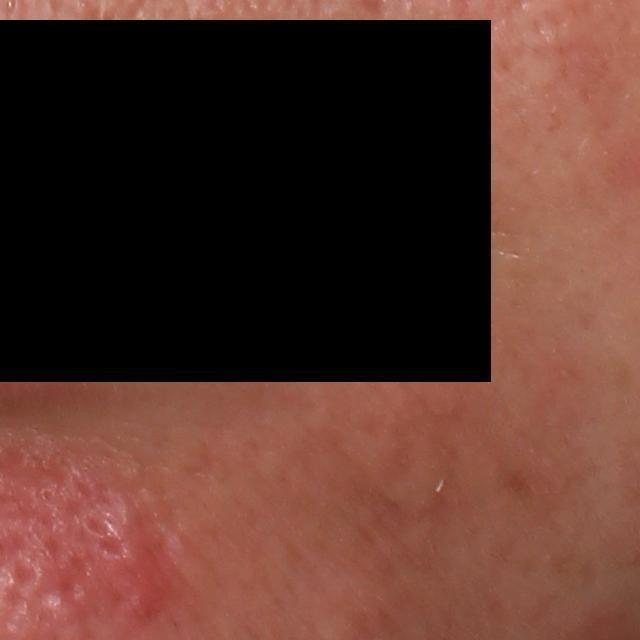papule: (102, 510, 180, 624)
